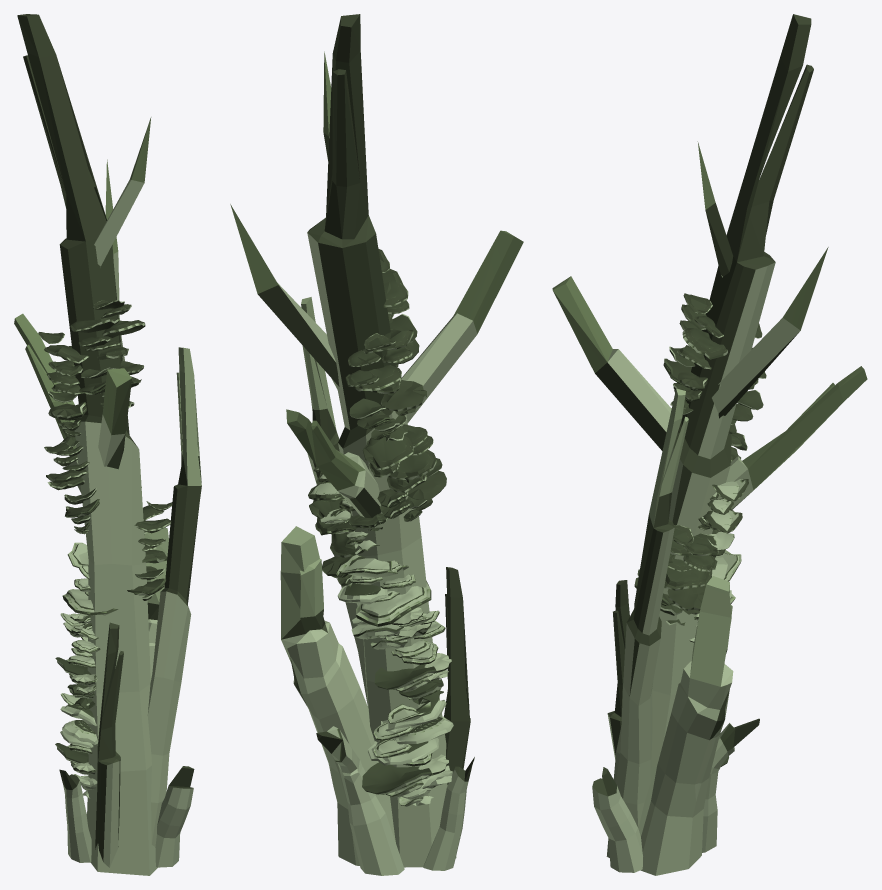
The model's file is EA_Swamp_BrokenTree_01d.glb.
The picture shows the model from 3 angles, left to right: view 1: azimuth 30°, elevation 25°; view 2: azimuth 150°, elevation 25°; view 3: azimuth 270°, elevation 25°; orthographic projection. The views are drawn at different scales.
Parts seen in each view (by area): view 1: EA_Swamp_BrokenTree_01d; view 2: EA_Swamp_BrokenTree_01d; view 3: EA_Swamp_BrokenTree_01d.
Boxes of the visible parts, bbox=[...] form: EA_Swamp_BrokenTree_01d: bbox=[14, 14, 201, 875]; EA_Swamp_BrokenTree_01d: bbox=[230, 14, 523, 875]; EA_Swamp_BrokenTree_01d: bbox=[552, 14, 867, 875].
Size of the model in its own units: 1.68 by 8.93 by 3.09.
Materials: 1 (1 with a texture image).
